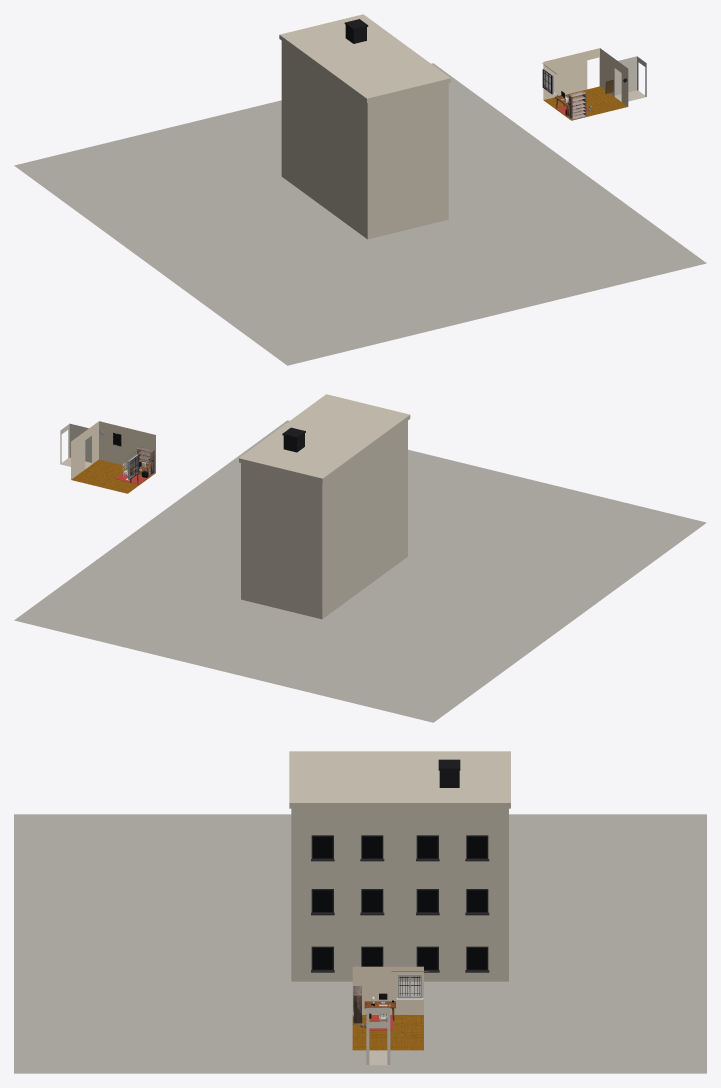
The model's file is set1.glb.
The picture shows the model from 3 angles, top to bottom: view 1: azimuth 30°, elevation 25°; view 2: azimuth 150°, elevation 25°; view 3: azimuth 270°, elevation 25°; orthographic projection. The views are drawn at different scales.
Parts seen in each view (by area): view 1: Static; view 2: Static; view 3: Static.
Part boxes in pixels (bbox=[...]): Static: bbox=[14, 14, 706, 365]; Static: bbox=[14, 394, 706, 722]; Static: bbox=[14, 751, 706, 1073].
Bounding box in the file's own units: 36.85 × 11.1 × 35.
Materials: 48 (13 with a texture image).
